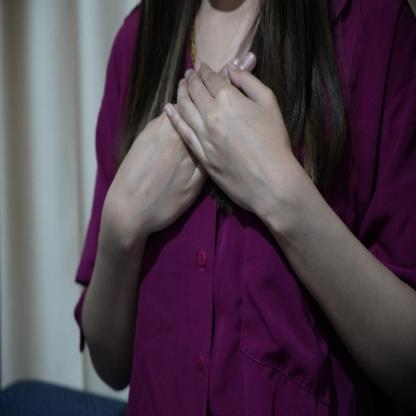Grieve: (88, 50, 342, 252)
